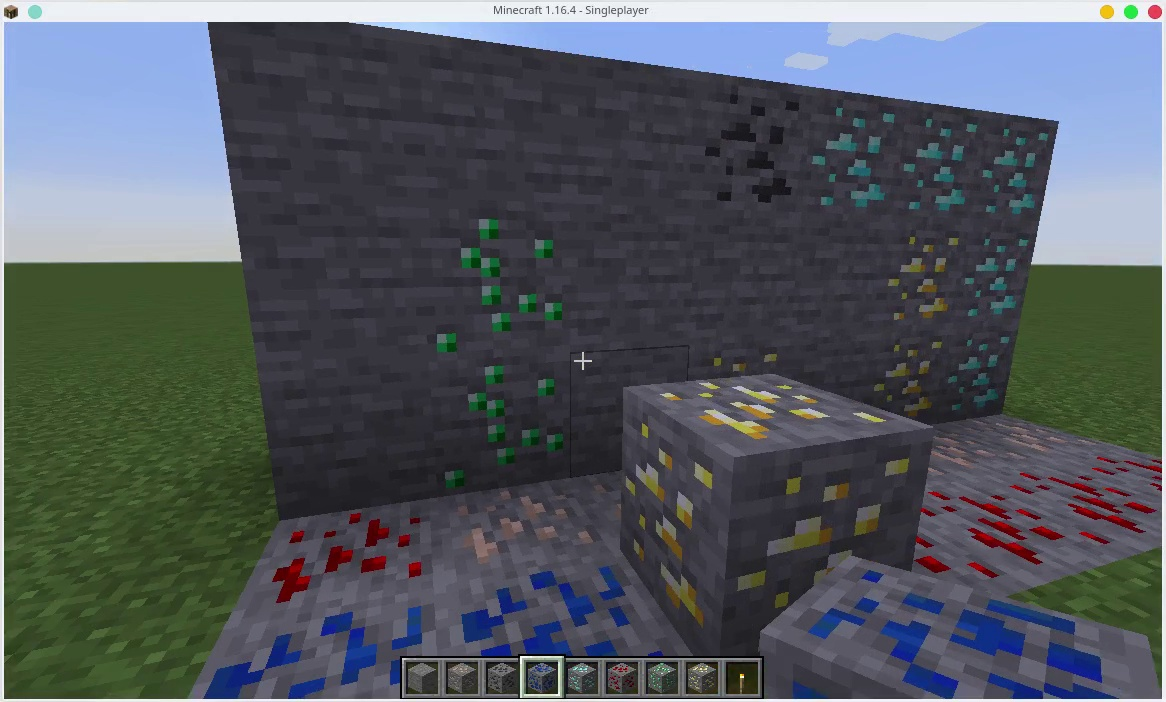gold: (639, 389, 900, 569), (896, 232, 958, 334), (883, 344, 946, 422), (703, 349, 779, 377), (687, 660, 722, 697)
